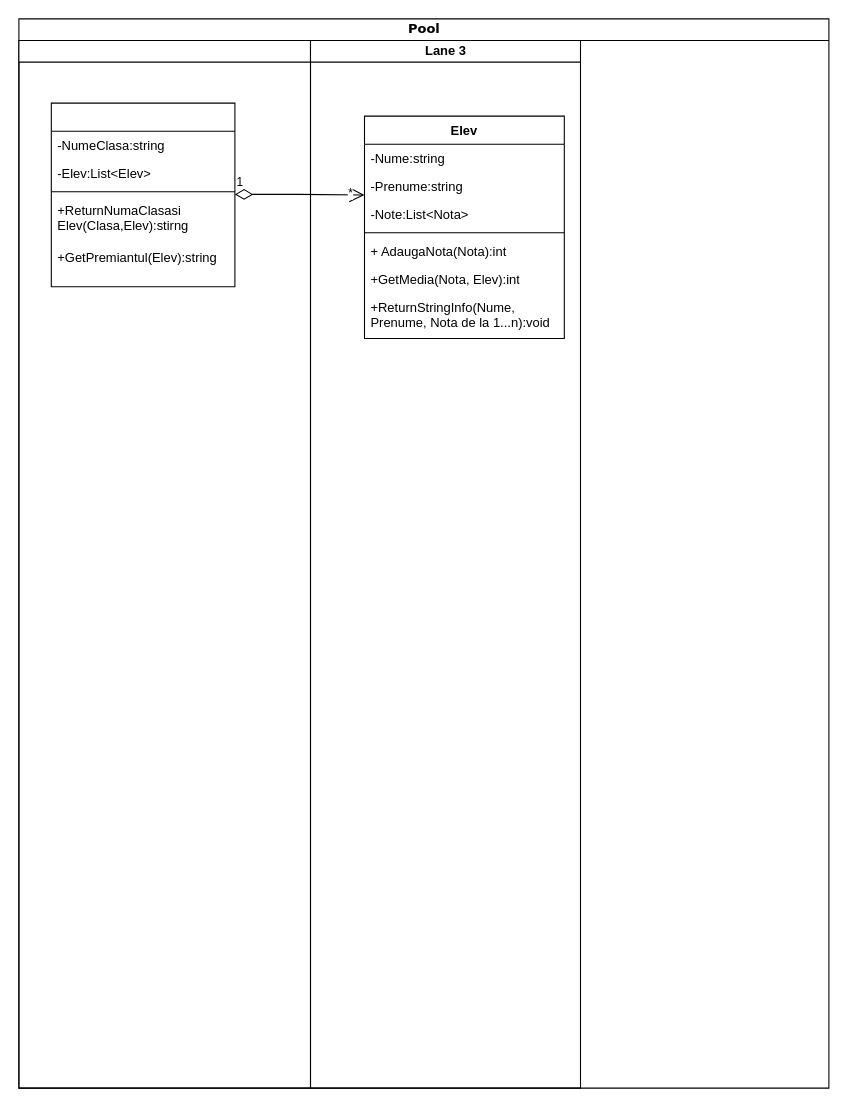
Image size: 848x1107. Some labels were removed from this diagram. Here are the shapes that lost their labels. From the top down, the box of each, then its label:
(50, 102, 235, 287): Catalog
(18, 39, 310, 1088): Lane 1
